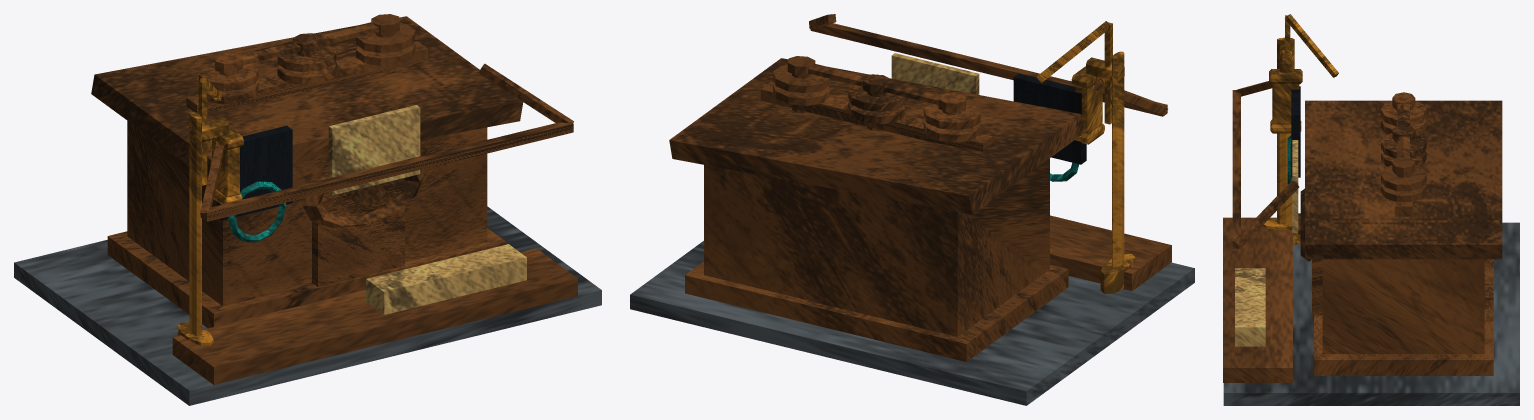
Rendered from west-lamplighter-refuge.glb.
The picture shows the model from 3 angles, left to right: view 1: azimuth 30°, elevation 25°; view 2: azimuth 150°, elevation 25°; view 3: azimuth 270°, elevation 25°; orthographic projection. The views are drawn at different scales.
Visible parts, largest first — view 1: west-lamplighter-refuge; view 2: west-lamplighter-refuge; view 3: west-lamplighter-refuge.
Boxes of the visible parts, box(x1,y1,x2,y2) form: west-lamplighter-refuge: box(14, 14, 601, 405); west-lamplighter-refuge: box(630, 14, 1194, 405); west-lamplighter-refuge: box(1223, 14, 1519, 405).
Bounding box in the file's own units: 6.8 × 4.52 × 5.01.
Materials: 1 (1 with a texture image).
